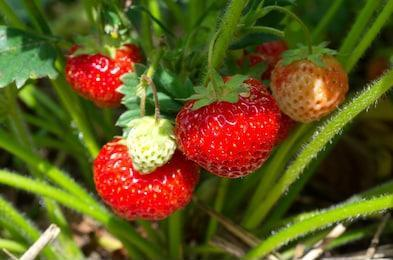Fresa: (174, 69, 284, 185), (89, 128, 206, 229), (62, 27, 153, 117)
